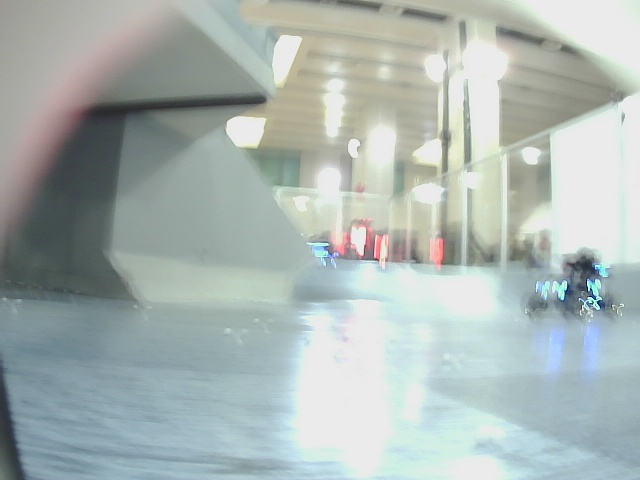pair: (538, 281, 567, 299)
